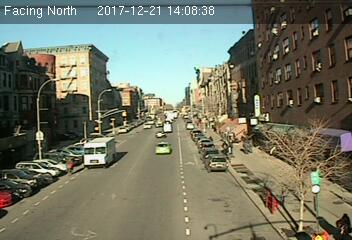car: (207, 154, 227, 170), (155, 141, 172, 154), (155, 131, 164, 138)
truck: (81, 137, 116, 168)
